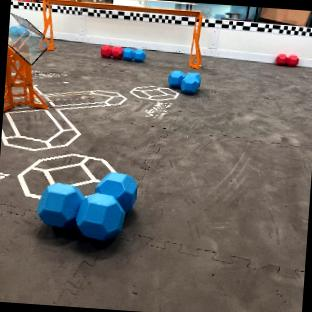Goal: (3, 13, 46, 110)
V5_BLUE: (37, 172, 136, 242), (168, 70, 200, 94), (123, 48, 144, 61), (8, 26, 27, 36)
V5_RED: (276, 53, 297, 66), (110, 45, 122, 58), (101, 45, 112, 57)
